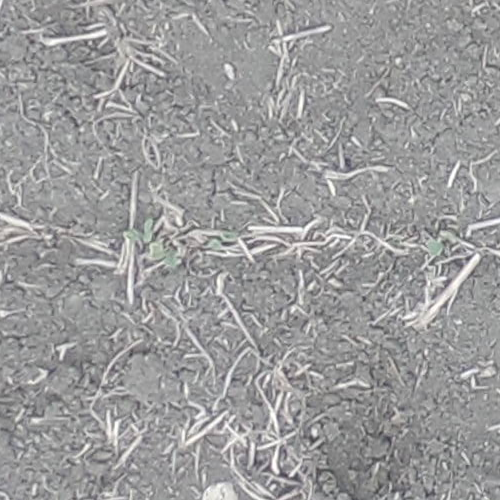clumped: (124, 217, 178, 268)
isolated: (209, 229, 238, 252), (424, 238, 444, 257)
